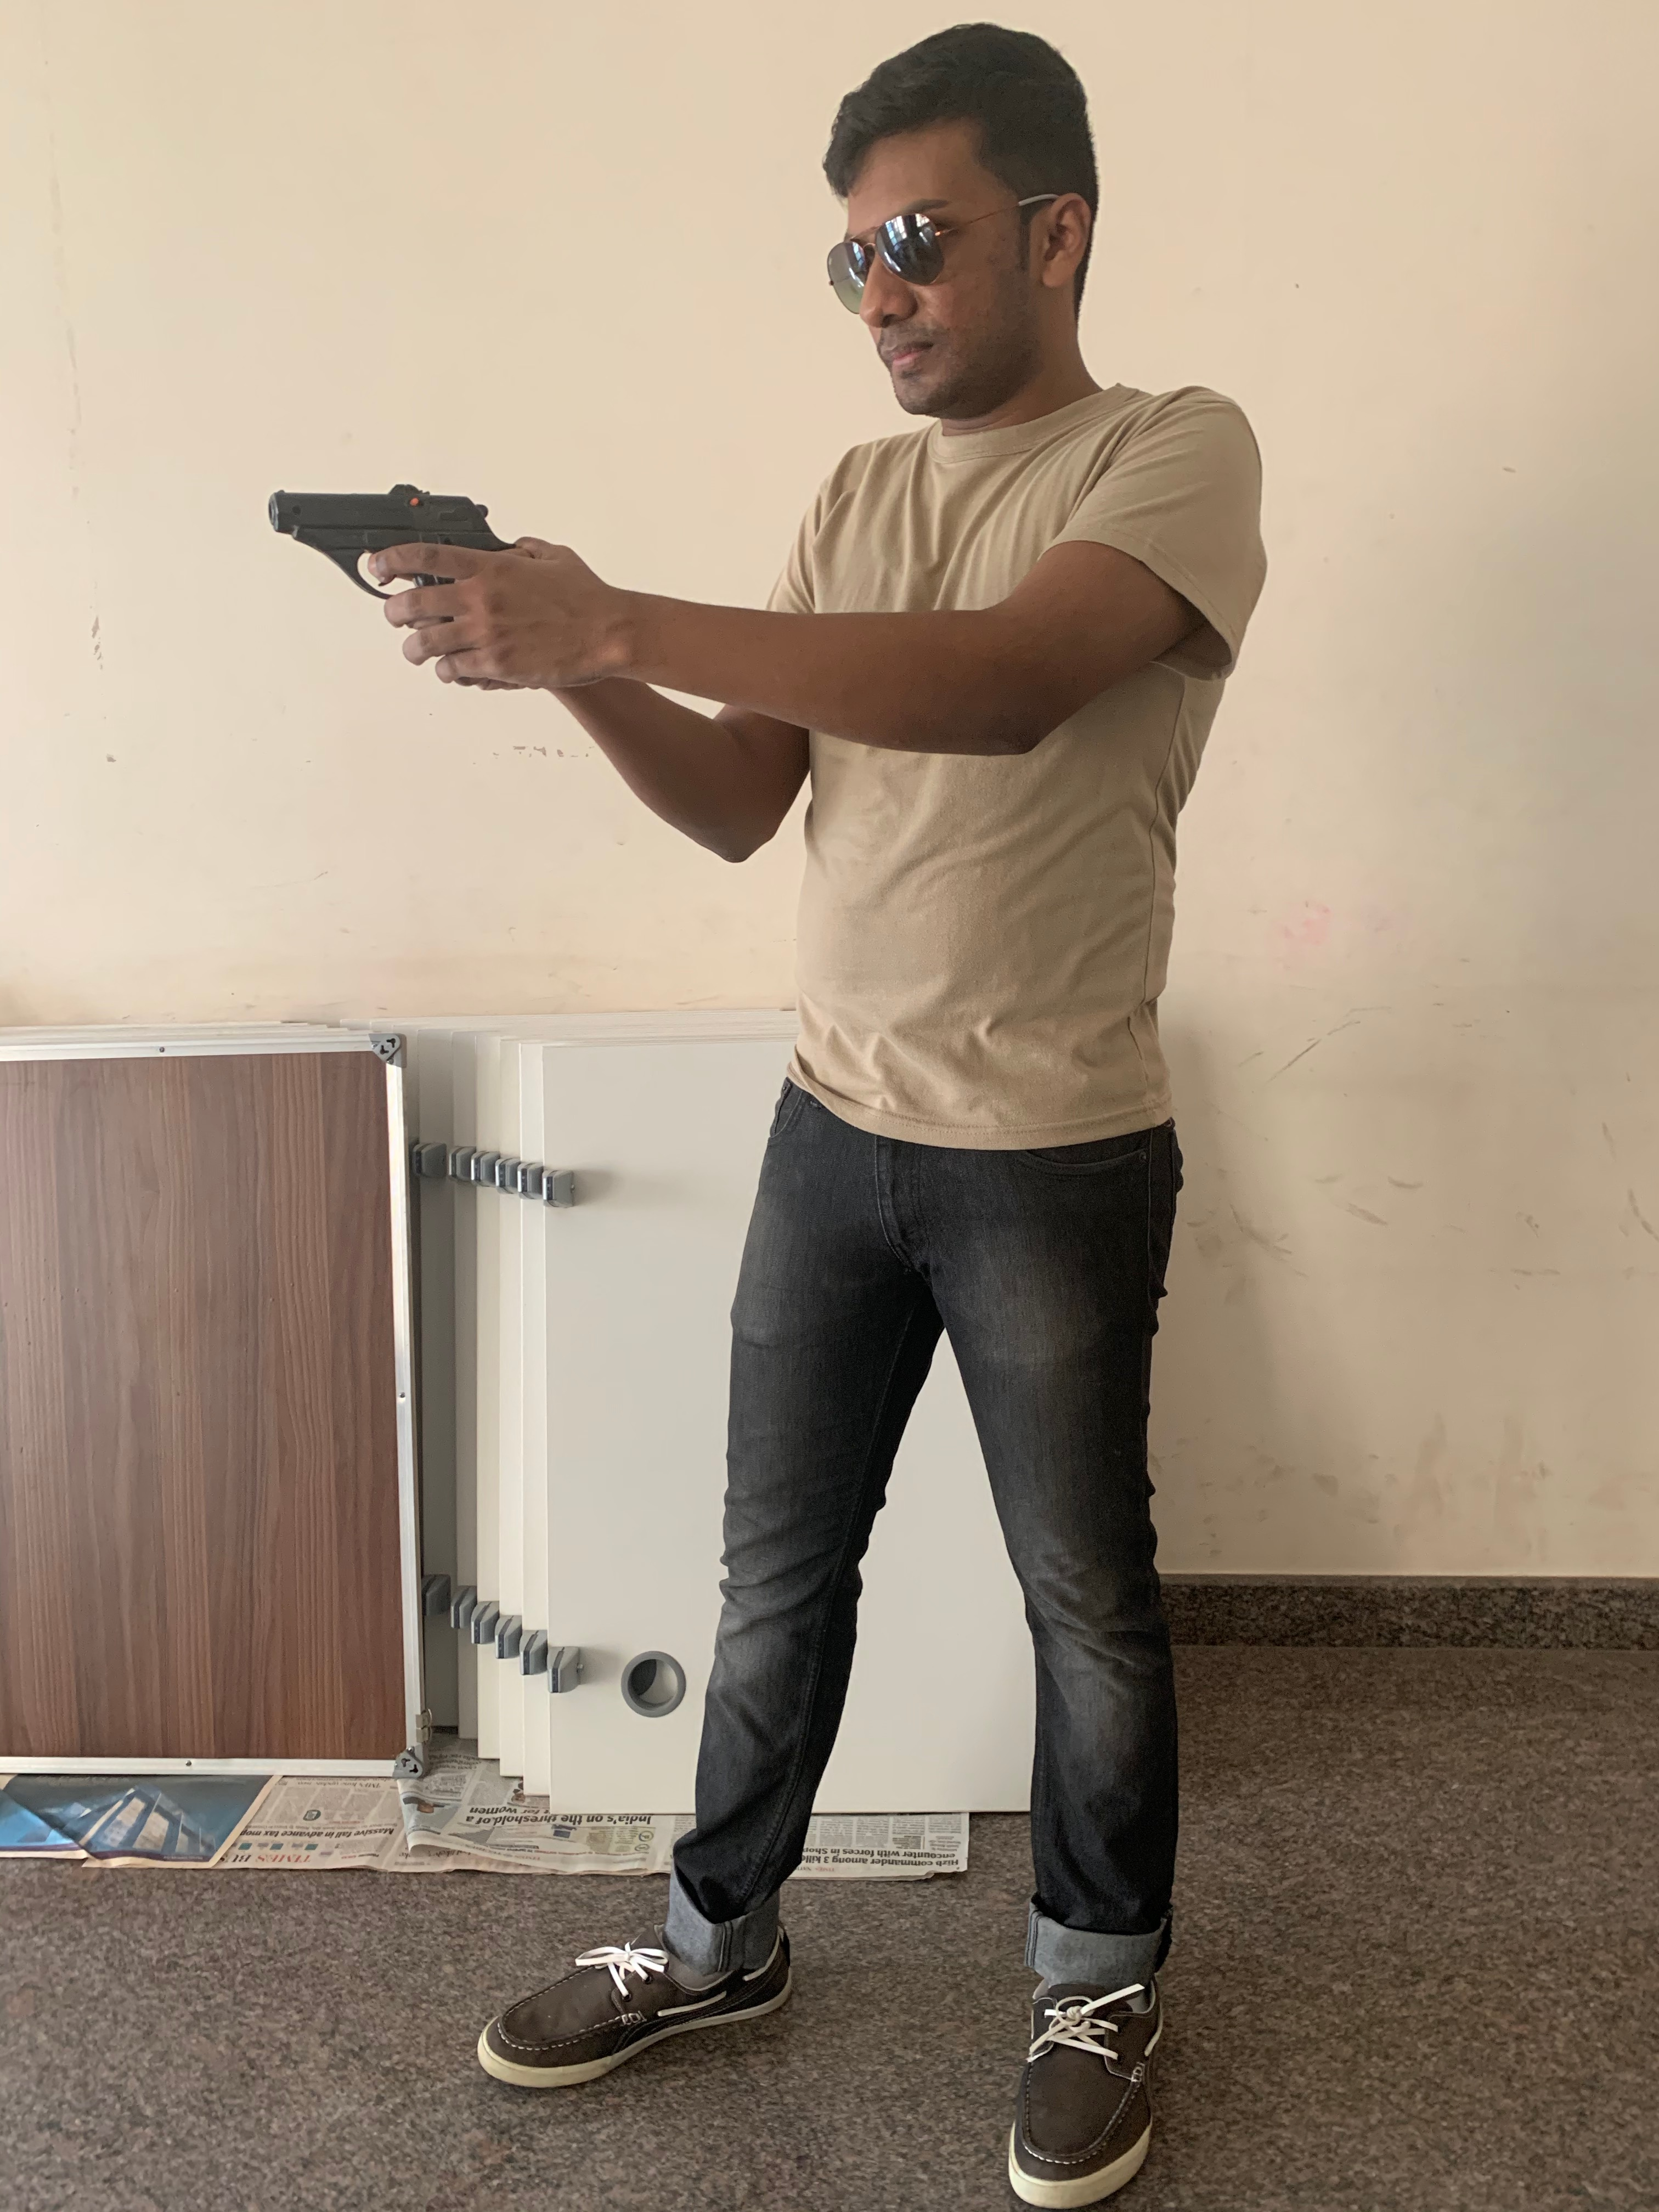gun: (265, 484, 523, 620)
